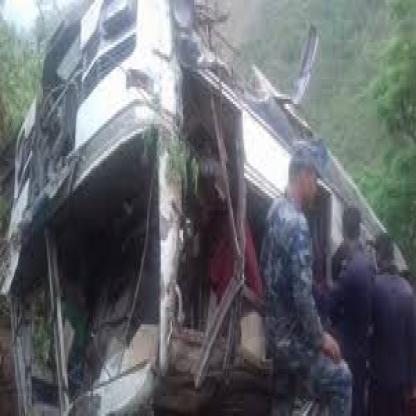accident: (9, 5, 286, 410)
